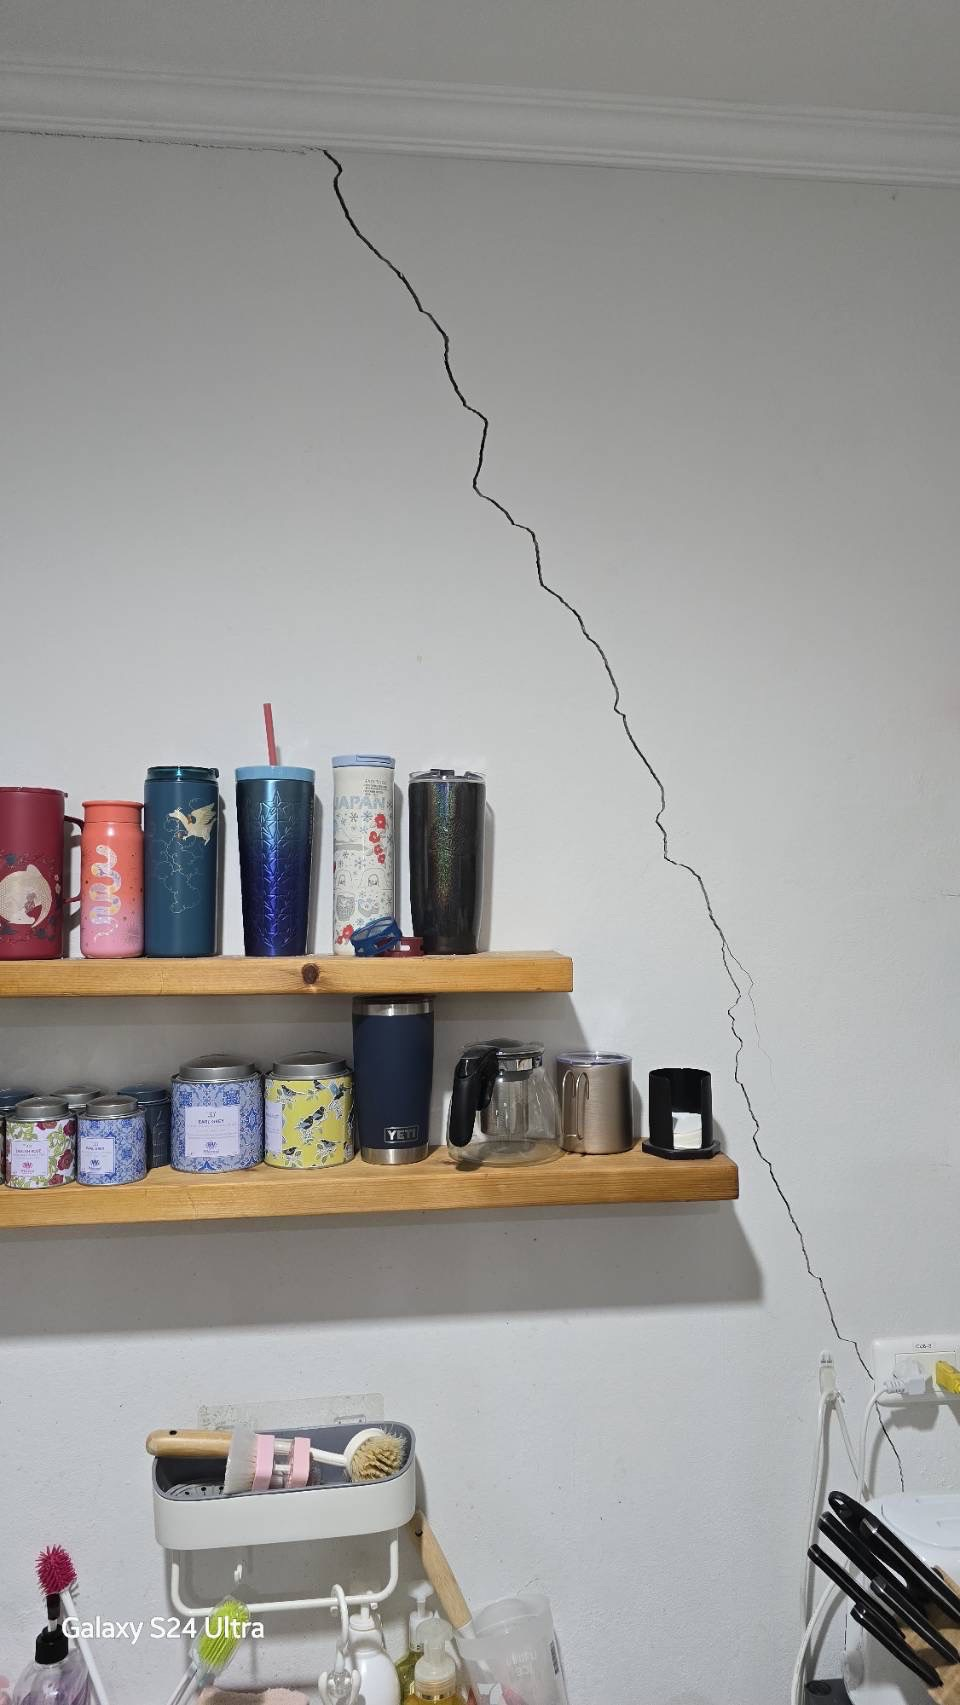Medium: (283, 145, 763, 727)
